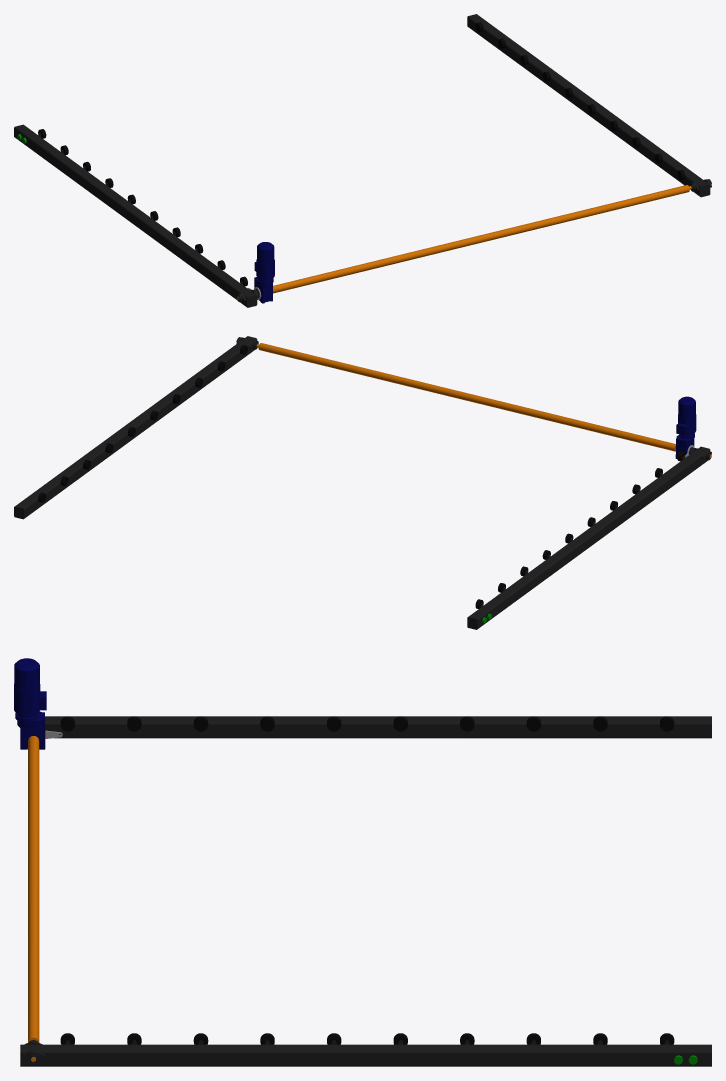
Rendered from SHELF-B-2.obj.
3 views of the same model, one above another, from view 1: azimuth 30°, elevation 25°; view 2: azimuth 150°, elevation 25°; view 3: azimuth 270°, elevation 25° (orthographic). The views are drawn at different scales.
Visible parts, largest first — view 1: Mesh; view 2: Mesh; view 3: Mesh.
Part boxes in pixels (<box>): Mesh: <box>14,14,711,307</box>; Mesh: <box>14,336,711,629</box>; Mesh: <box>14,658,711,1066</box>.
Size of the model in its own units: 5509 by 634 by 4738.
